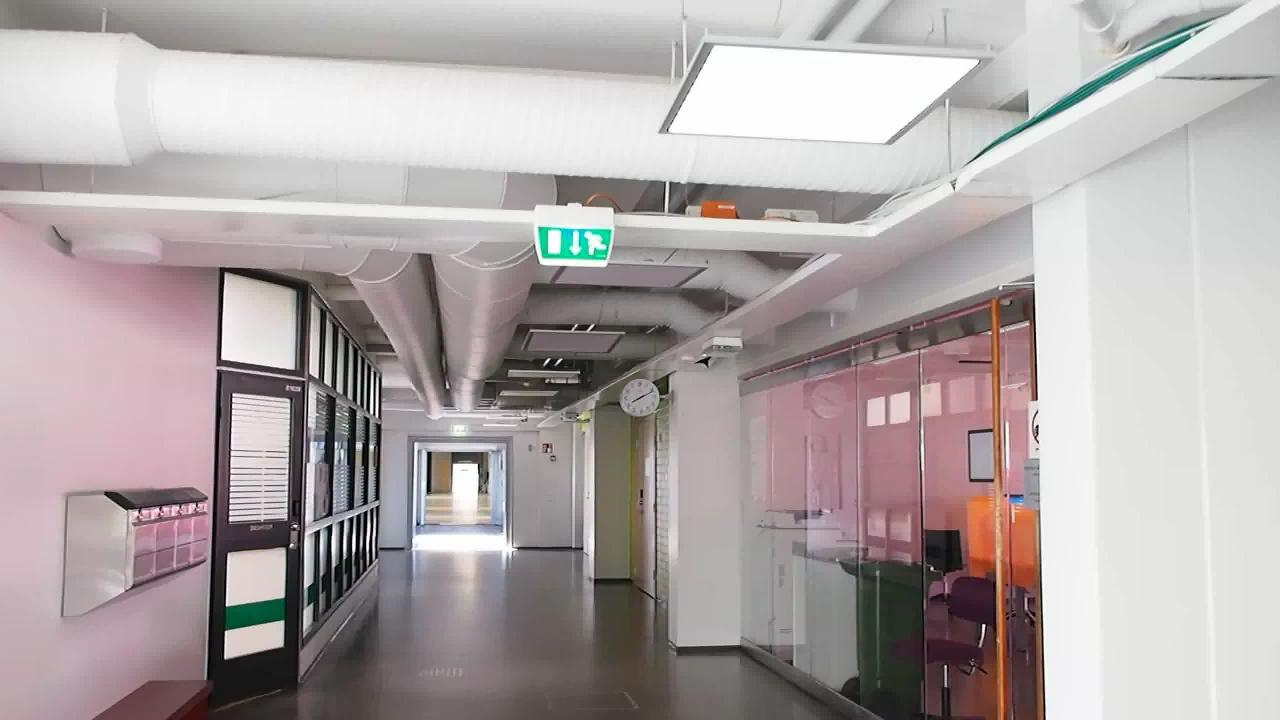exit: (537, 215, 616, 267)
